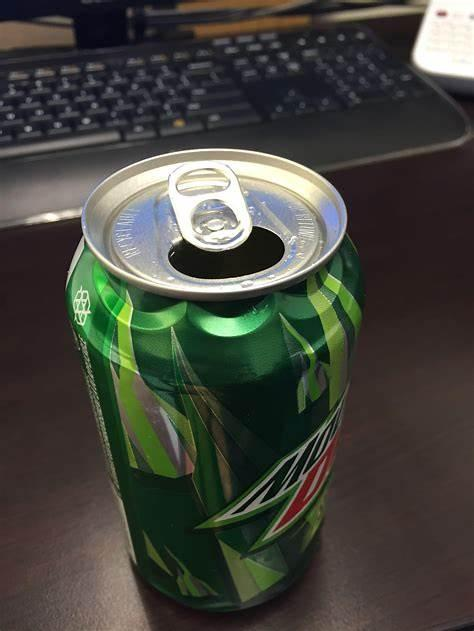metal: (66, 149, 364, 612)
